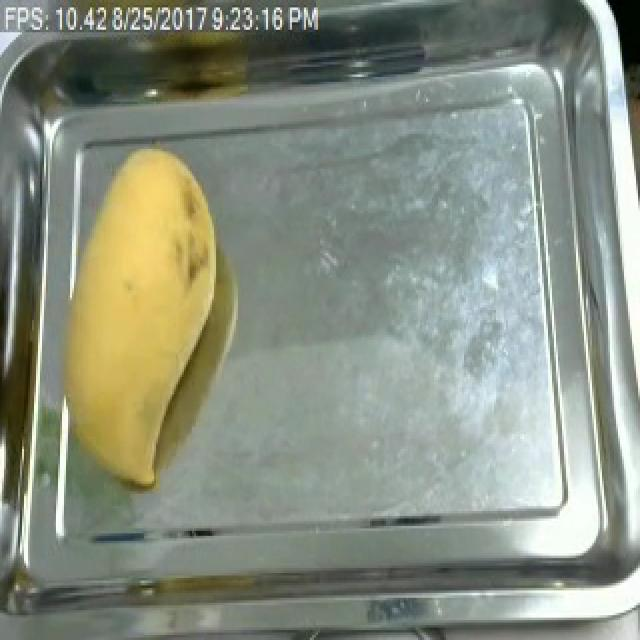fruit: (42, 136, 236, 508)
